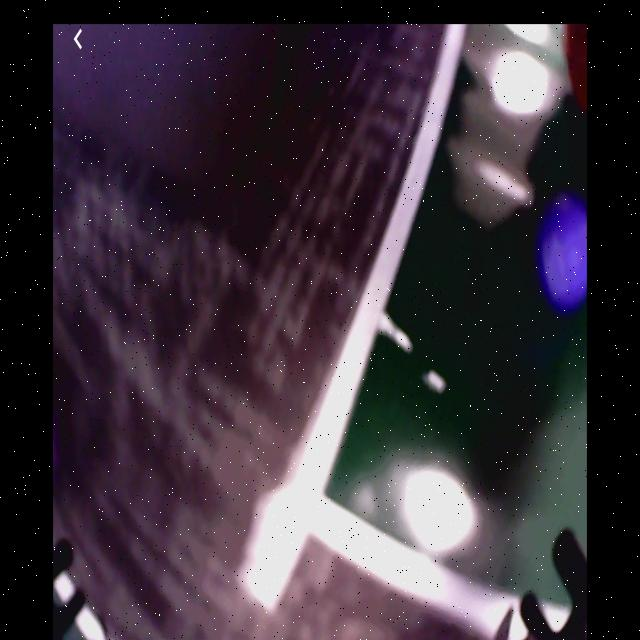ball: (541, 201, 589, 316)
